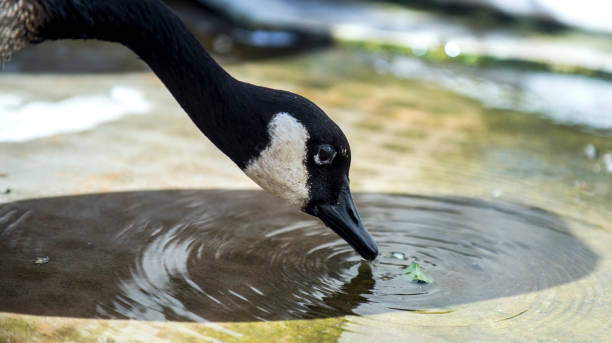goose: (1, 1, 380, 262)
